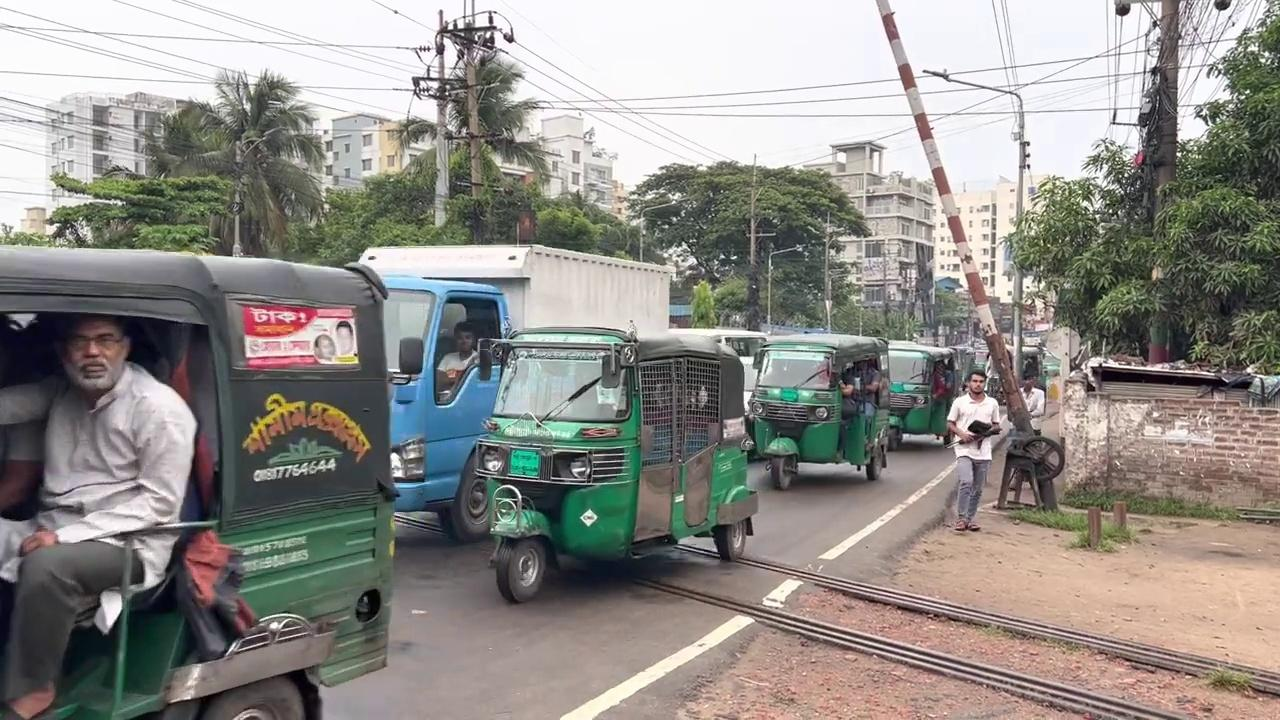Fence: (0, 312, 198, 719), (945, 369, 1002, 532), (435, 321, 480, 391)
Garbage: (874, 0, 1055, 508), (1145, 0, 1182, 364)
Motorcycle: (626, 538, 1278, 718)
Railroad-crossing: (385, 45, 560, 244)
Rickshaw: (0, 243, 400, 717), (472, 320, 759, 603), (885, 339, 959, 450)
Sidewalk: (1060, 363, 1278, 508)
